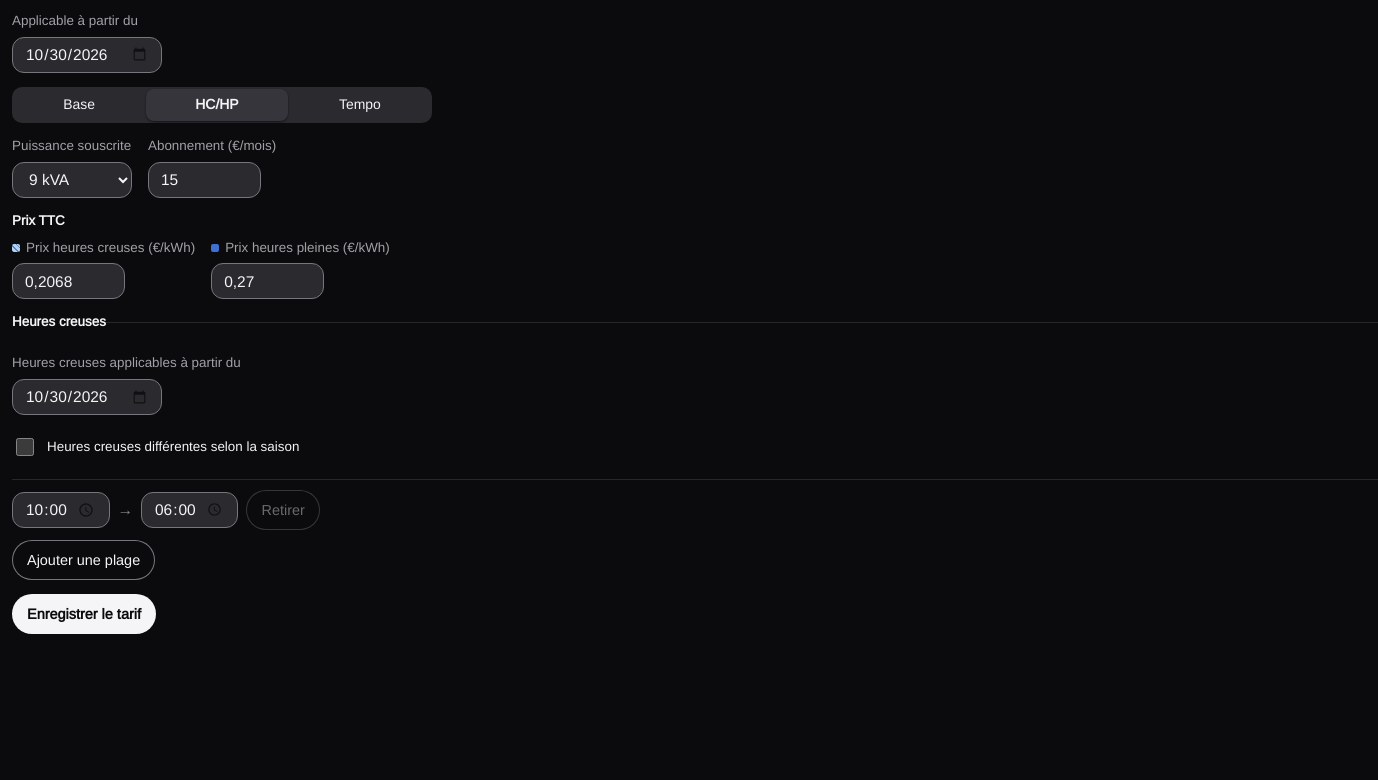
Test: TariffForm v2 › compact fields: intrinsic widths, the HC/HP swatch before each price, one line per off-peak slot
The image size is (1378, 780).
Expected: the 2nd time field named "Fin de la plage 1" is shown, [141,492,238,528]
Expected: the button with aria-label "Retirer la plage 1" is shown, [246,490,320,530]
// Tempo keeps the day colour (round TempoDot) and adds the hour type (square swatch).
Click the radio button labelled "Tempo": (360, 105) [290,89,430,121]
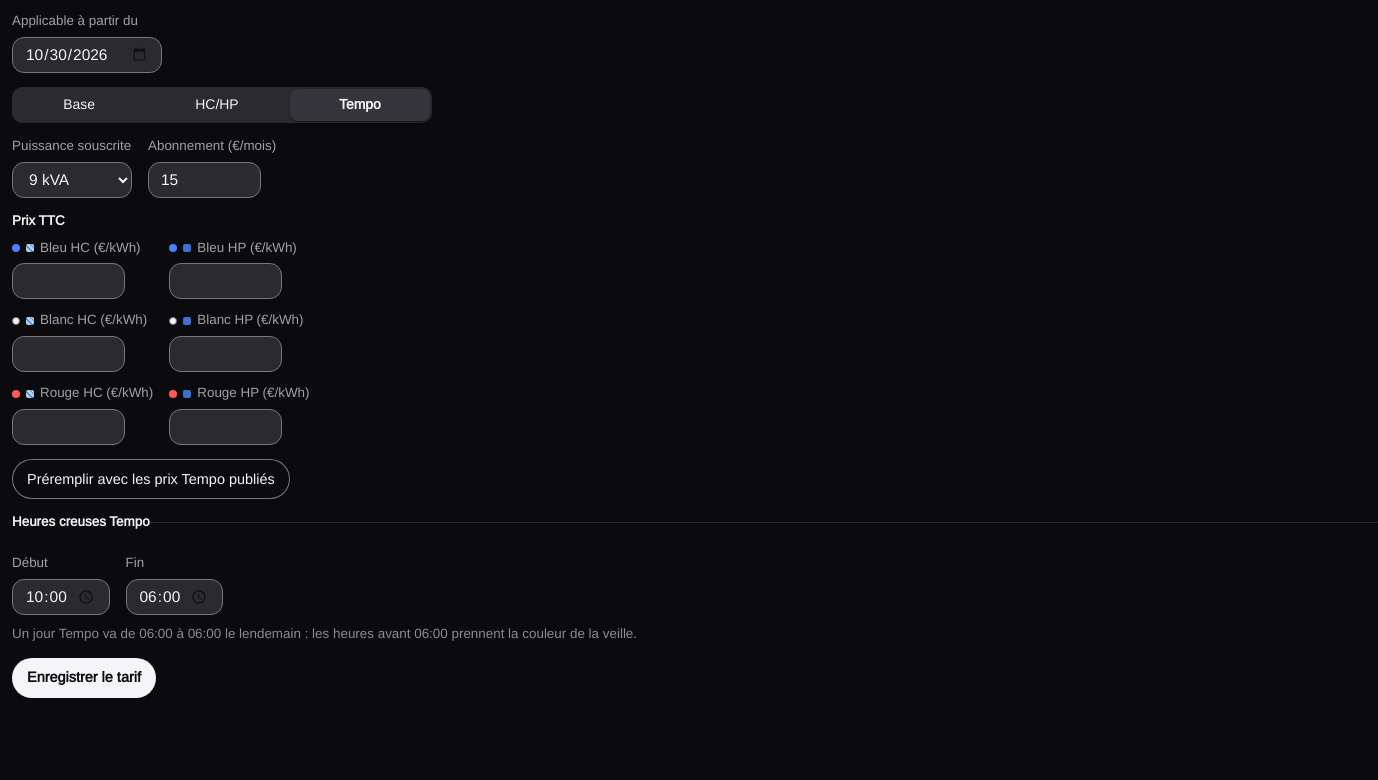
Result: the 1st element with class "red" is shown at [12,390,20,398]
